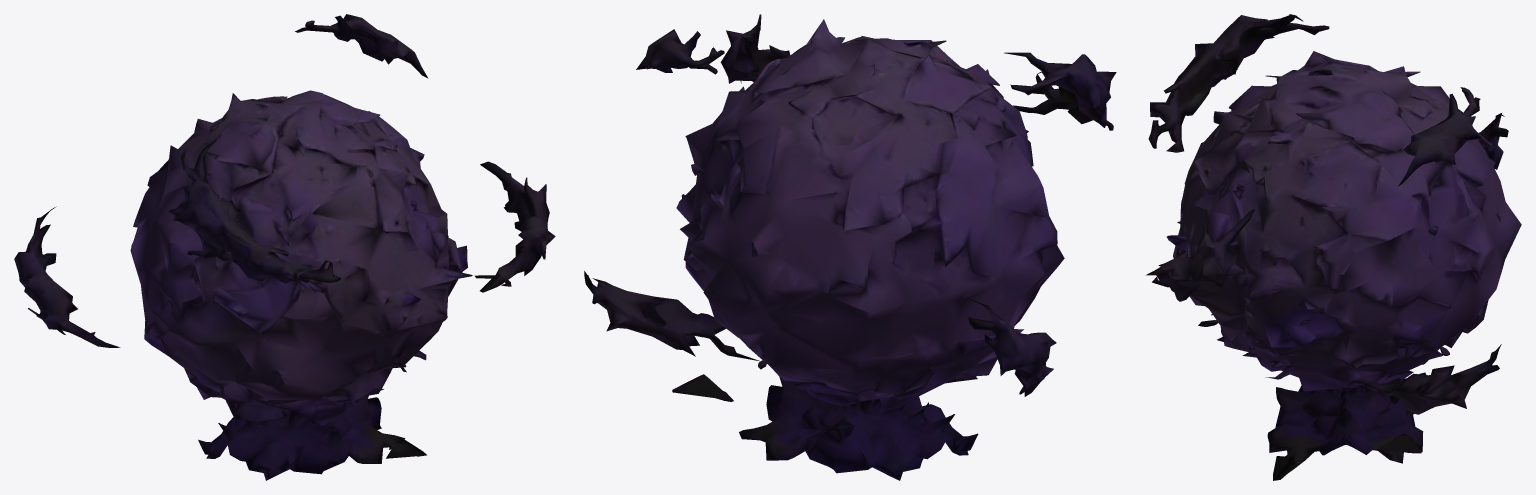
Rendered from dark_v.glb.
The picture shows the model from 3 angles, left to right: view 1: azimuth 30°, elevation 25°; view 2: azimuth 150°, elevation 25°; view 3: azimuth 270°, elevation 25°; orthographic projection. The views are drawn at different scales.
Parts seen in each view (by area): view 1: tripo_node_3c9008a5-f443-44aa-b30f-2f87f4c331a3; view 2: tripo_node_3c9008a5-f443-44aa-b30f-2f87f4c331a3; view 3: tripo_node_3c9008a5-f443-44aa-b30f-2f87f4c331a3.
Boxes of the visible parts, box(x1,y1,x2,y2) form: tripo_node_3c9008a5-f443-44aa-b30f-2f87f4c331a3: box(14, 14, 555, 480); tripo_node_3c9008a5-f443-44aa-b30f-2f87f4c331a3: box(584, 14, 1116, 480); tripo_node_3c9008a5-f443-44aa-b30f-2f87f4c331a3: box(1146, 14, 1521, 480).
Size of the model in its own units: 0.9816 by 0.8795 by 0.777.
Materials: 1 (1 with a texture image).
